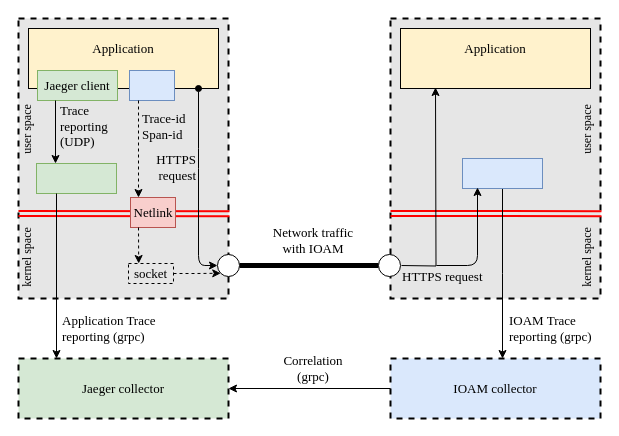
Image size: 619x436. Some labels were removed from this diagram. The shapes that lost their labels are listed below. From the top down, each one's box as (x1, y1, x2, y2) in pixels, then its label:
(128, 70, 174, 100): CLT
(36, 162, 116, 194): Jaeger agent
(462, 158, 542, 188): IOAM agent
